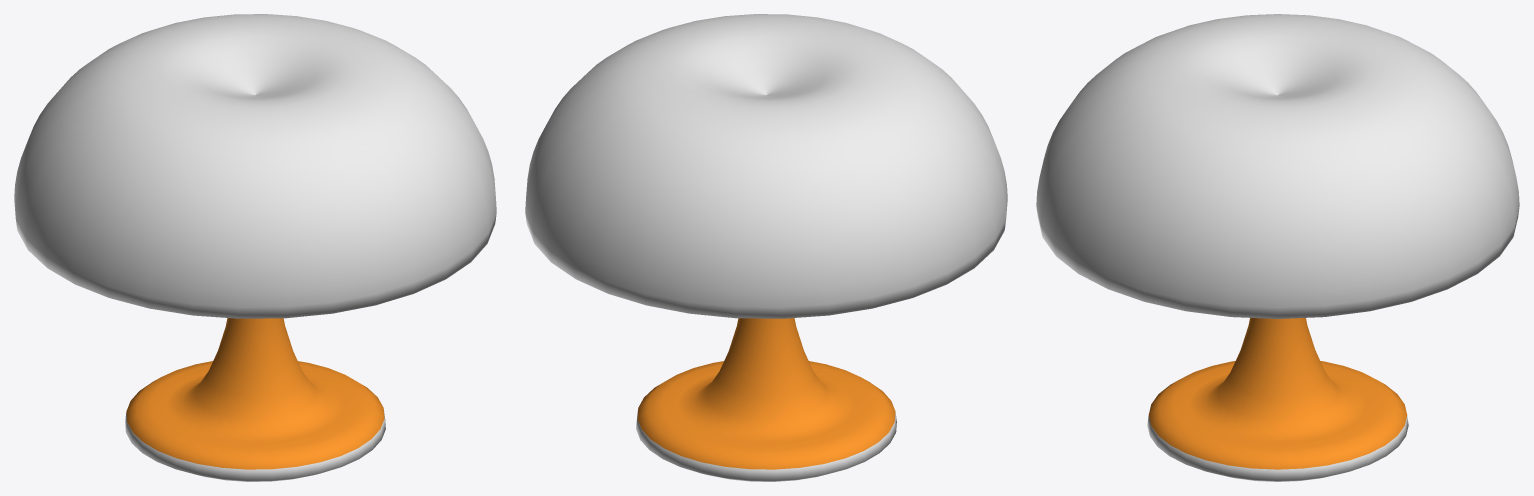
File: table1.fbx
3 views of the same model, side by side, from view 1: azimuth 30°, elevation 25°; view 2: azimuth 150°, elevation 25°; view 3: azimuth 270°, elevation 25° (orthographic).
Visible parts, largest first — view 1: Orange mushroom glass abstract table; view 2: Orange mushroom glass abstract table; view 3: Orange mushroom glass abstract table.
Part boxes in pixels (x1,y1,x2,y2): Orange mushroom glass abstract table: [14, 14, 496, 481]; Orange mushroom glass abstract table: [525, 14, 1007, 481]; Orange mushroom glass abstract table: [1036, 14, 1519, 481].
Size of the model in its own units: 147 by 124 by 147.
